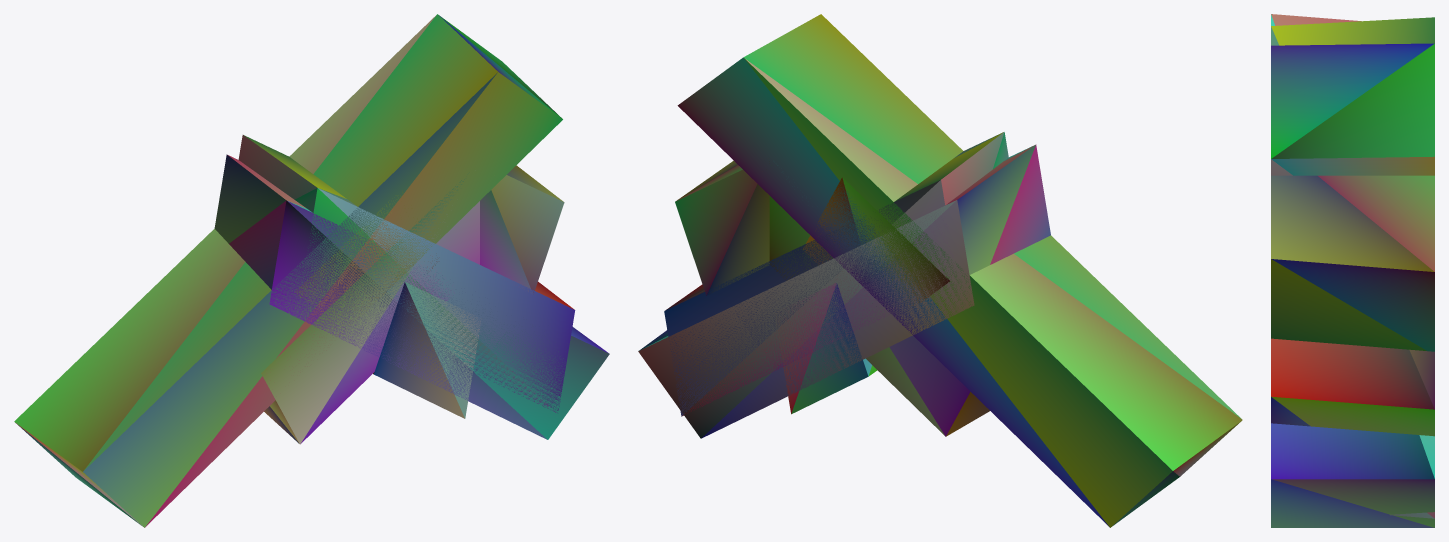
The model's file is Chevron_1.fbx.
3 renders of one model, left to right at view 1: azimuth 30°, elevation 25°; view 2: azimuth 150°, elevation 25°; view 3: azimuth 270°, elevation 25°, orthographic. The views are drawn at different scales.
Visible parts, largest first — view 1: Chevron; view 2: Chevron; view 3: Chevron.
Part boxes in pixels (<box>): Chevron: <box>14,14,609,527</box>; Chevron: <box>638,14,1242,527</box>; Chevron: <box>1271,14,1434,527</box>.
Size of the model in its own units: 0.3408 by 0.2385 by 0.077.
